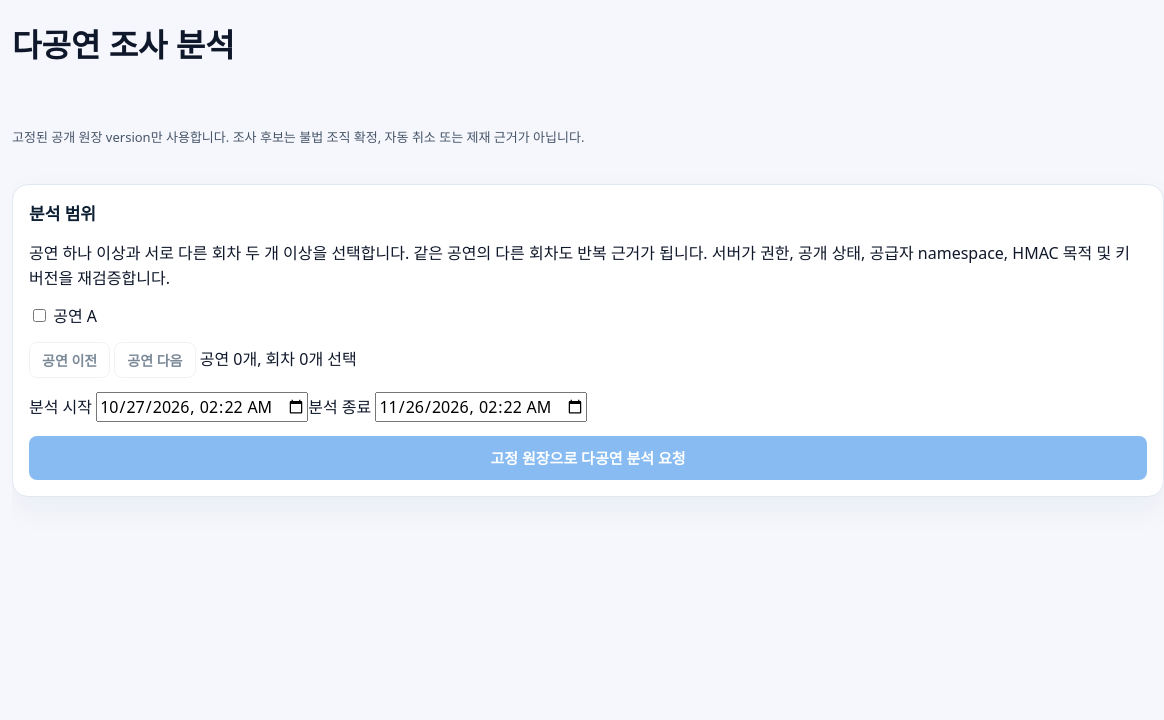
it: 다회차 조사 화면 › 공연 하나에 회차가 하나뿐이면 요청하지 않고 회차 선택을 안내한다
The image size is (1164, 720).
Click the checkbox labelled "공연 A": (40, 316) [33,310,46,322]
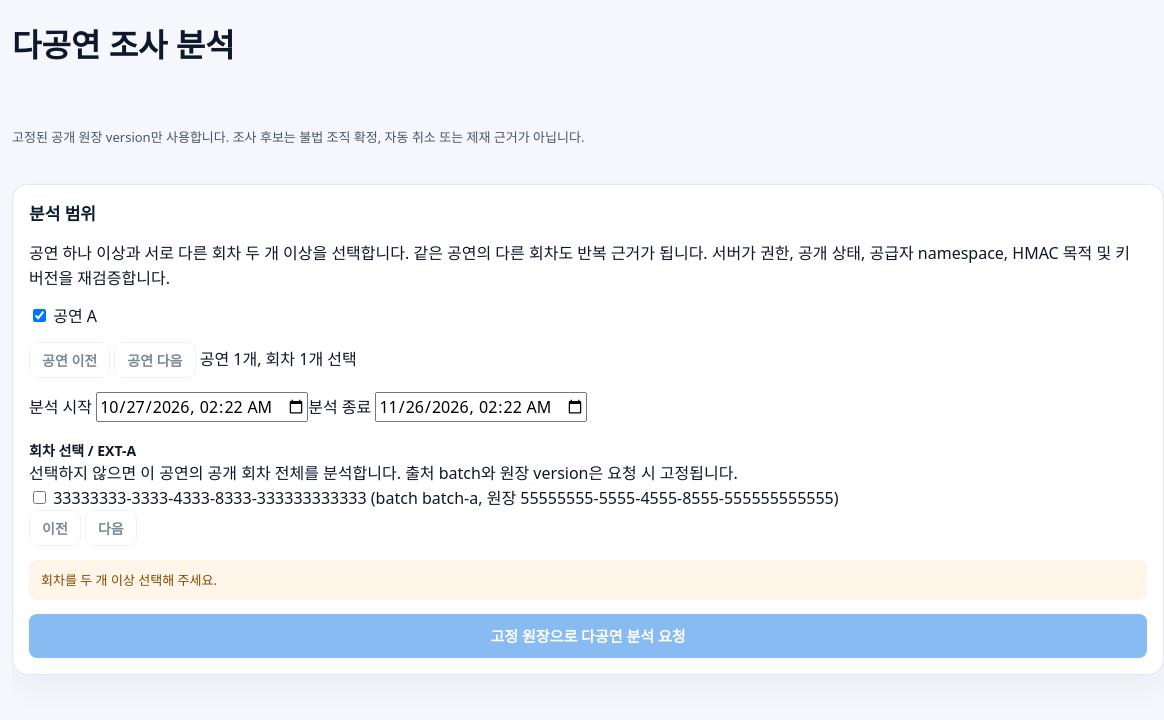
Check: the button "고정 원장으로 다공연 분석 요청" is disabled, box [29,614,1147,658]
Check: the checkbox labelled "33333333-3333-4333-8333-333333333333" is shown, box [33,491,46,504]
Check: the text "회차를 두 개 이상 선택해 주세요." is shown, box [29,560,1147,600]
